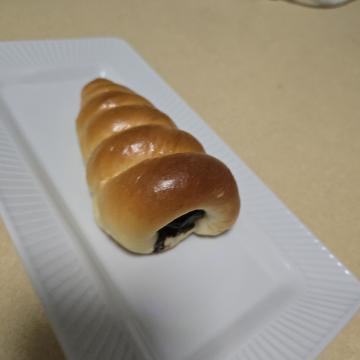cream horn: (56, 112, 276, 293)
